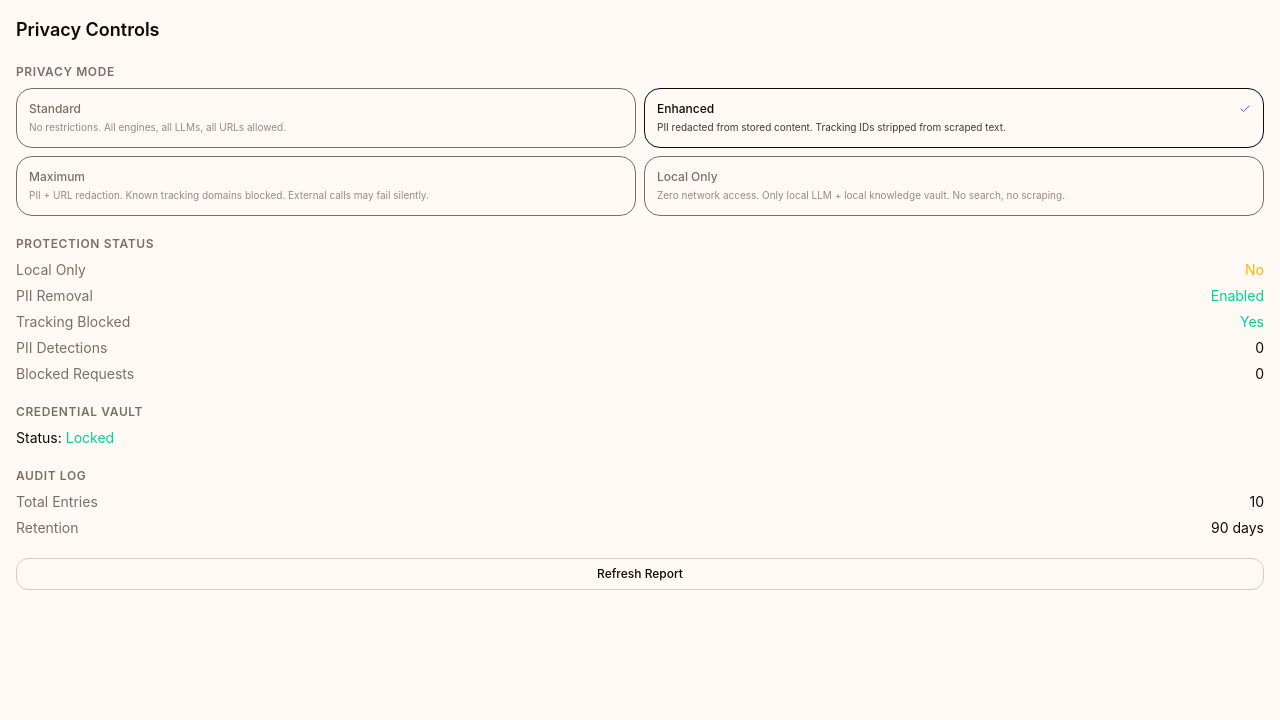
PrivacyControls › shows warning confirmation for maximum mode
The image size is (1280, 720).
Expected: the heading "Privacy Controls" is shown, [16, 19, 160, 40]
Click "Maximum" mode — it has a warning, so a confirmation dialog should appear
Click the text "Maximum".
click(57, 177)  # box [29, 169, 85, 185]
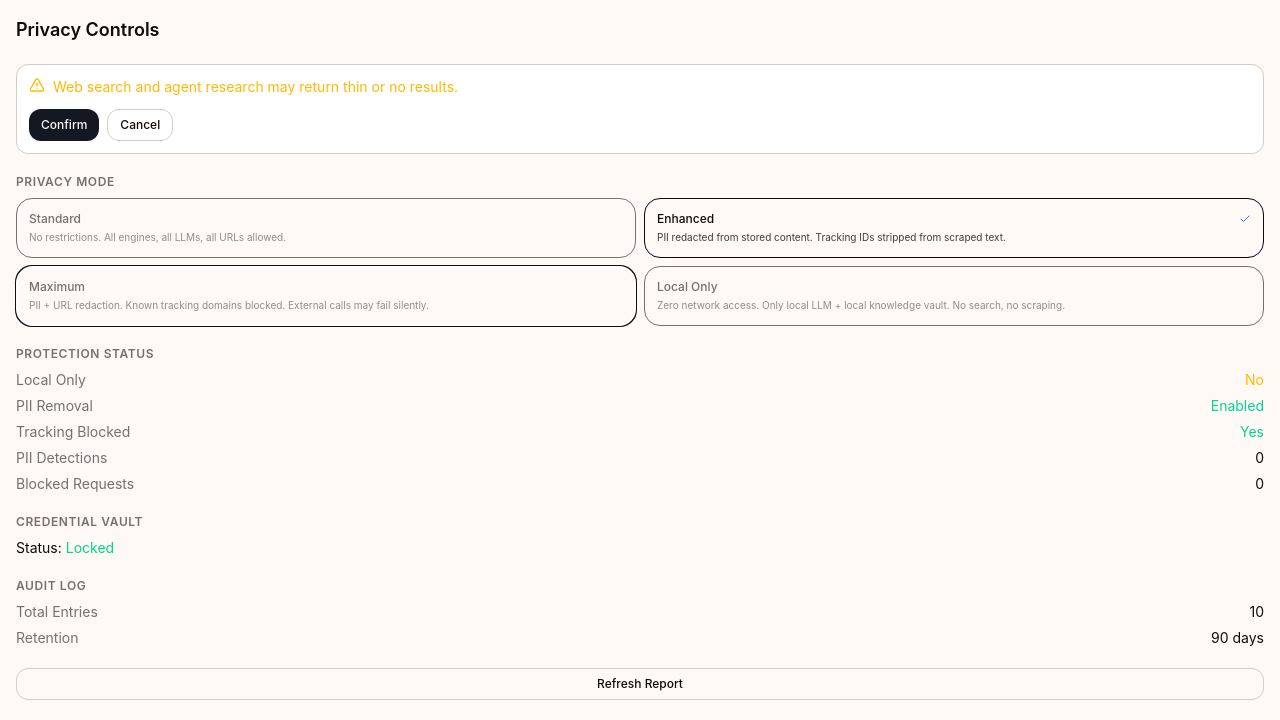
Result: the button "Confirm" is shown at [29, 109, 99, 141]
Result: the button "Cancel" is shown at [107, 109, 173, 141]
